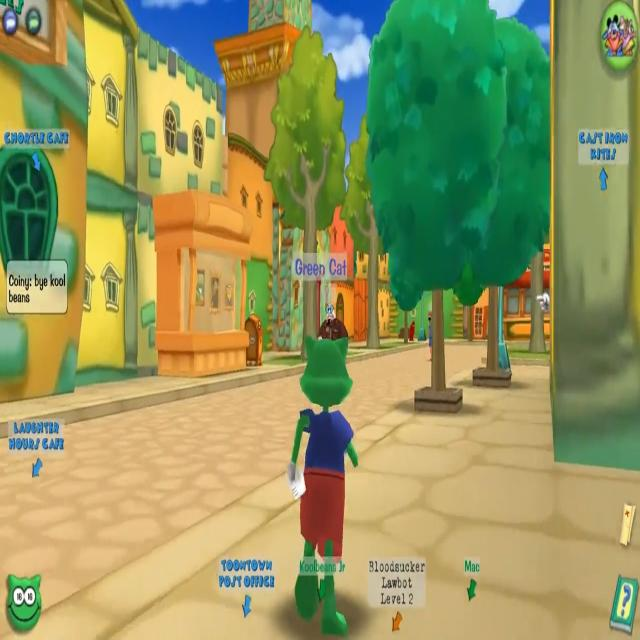flunky: (314, 300, 351, 366)
